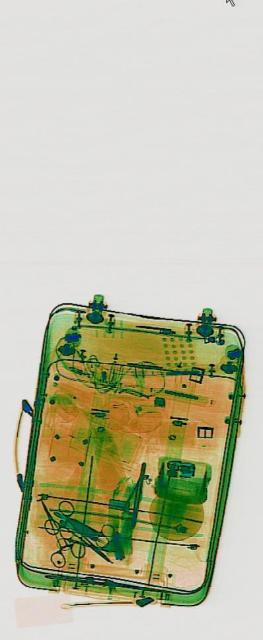Scissors: (42, 482, 117, 588), (31, 474, 84, 594), (79, 503, 115, 559), (55, 518, 90, 564)
